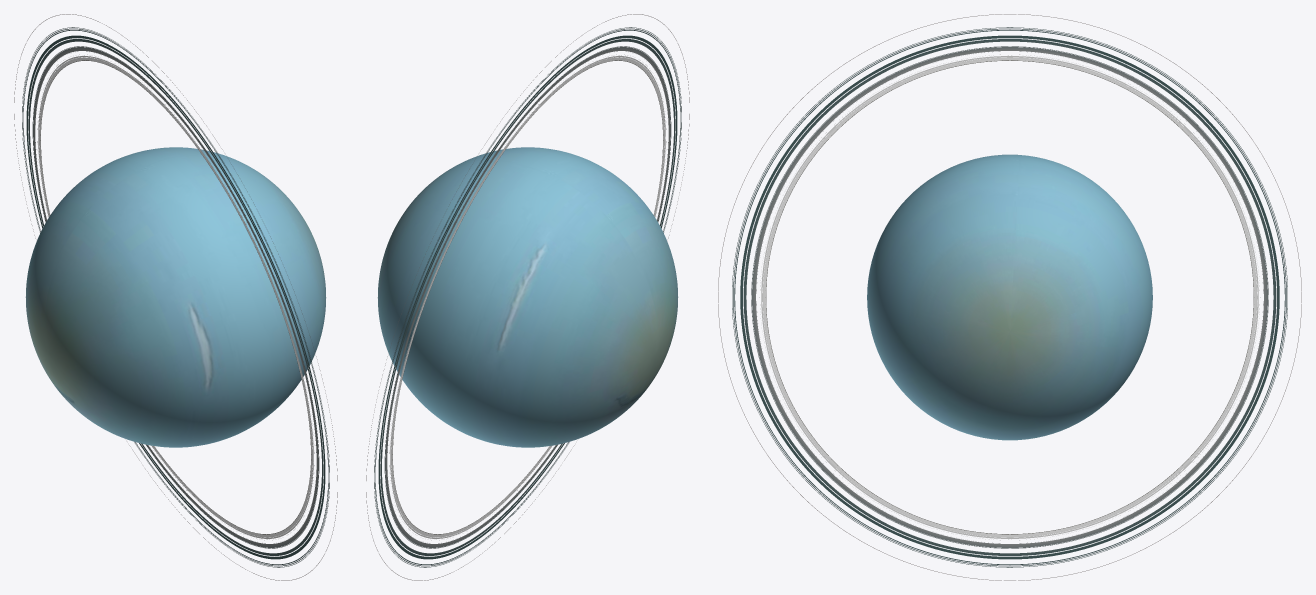
The model's file is uranus_1k.glb.
3 views of the same model, side by side, from view 1: azimuth 30°, elevation 25°; view 2: azimuth 150°, elevation 25°; view 3: azimuth 270°, elevation 25° (orthographic). The views are drawn at different scales.
Parts seen in each view (by area): view 1: node_id76_2, node_id78_3; view 2: node_id76_2, node_id78_3; view 3: node_id76_2, node_id78_3.
Boxes of the visible parts, x1=… form: node_id76_2: x1=25, y1=147, x2=326, y2=447; node_id78_3: x1=14, y1=14, x2=337, y2=580; node_id76_2: x1=377, y1=147, x2=678, y2=447; node_id78_3: x1=366, y1=14, x2=689, y2=580; node_id76_2: x1=867, y1=154, x2=1152, y2=440; node_id78_3: x1=718, y1=14, x2=1301, y2=580.
Size of the model in its own units: 0.2506 by 0.5023 by 0.512.
Materials: 2 (2 with a texture image).
